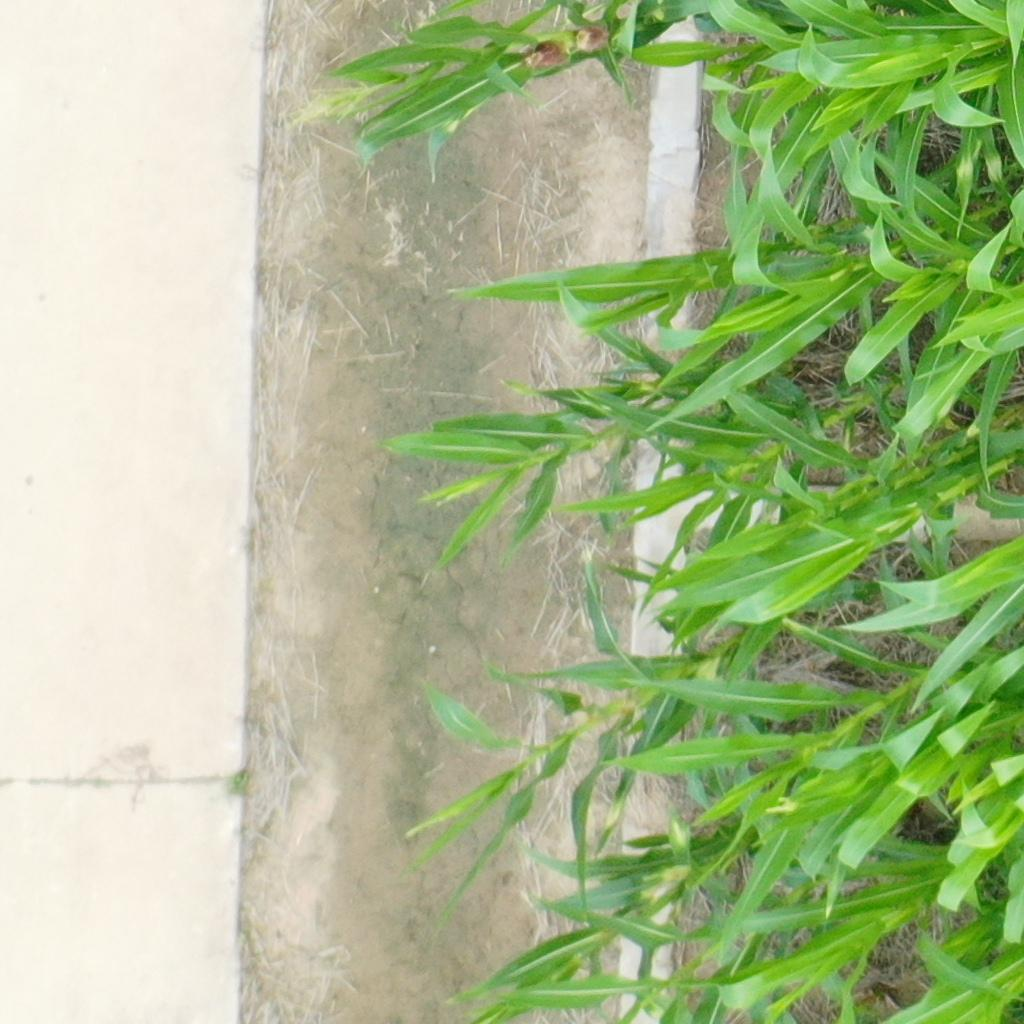Tassel: (281, 84, 394, 123), (762, 790, 802, 815)
